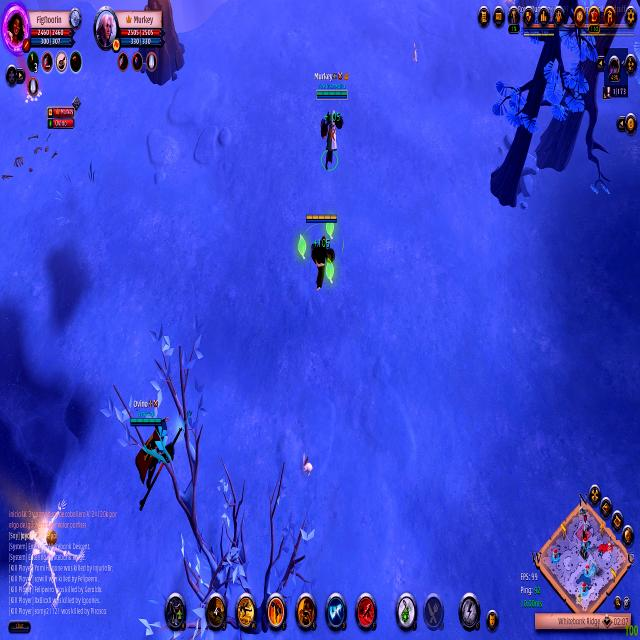red: (128, 393, 192, 512), (312, 66, 354, 175), (299, 210, 342, 306), (516, 2, 556, 42), (545, 2, 579, 44), (600, 3, 636, 42), (579, 4, 605, 40)
tree: (132, 0, 192, 107)
